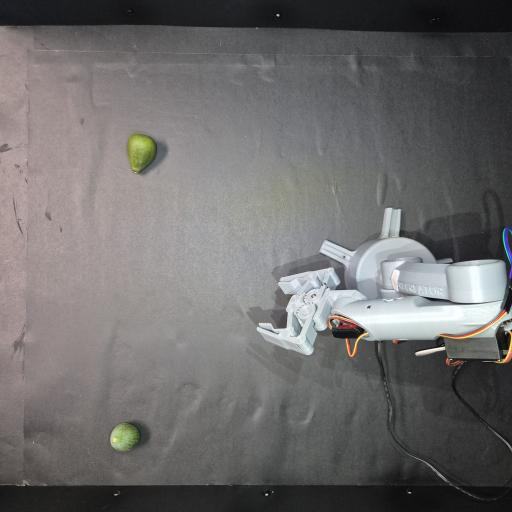higo: (127, 134, 156, 173), (110, 423, 140, 451)
